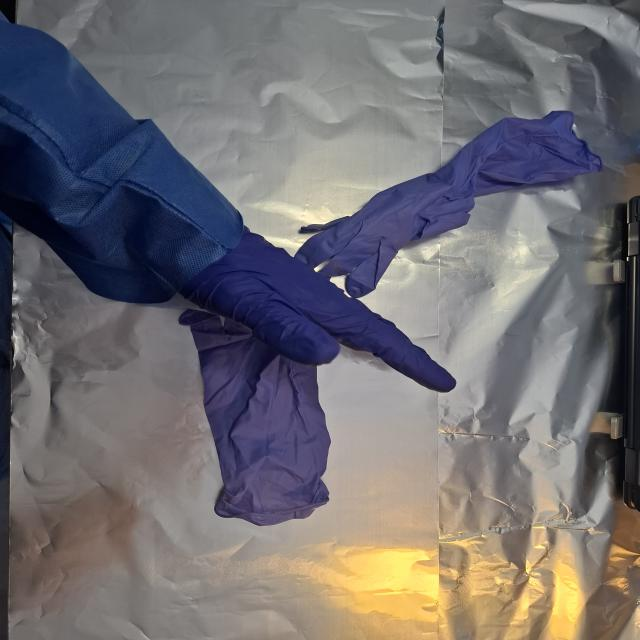glove_on: (168, 229, 460, 396)
